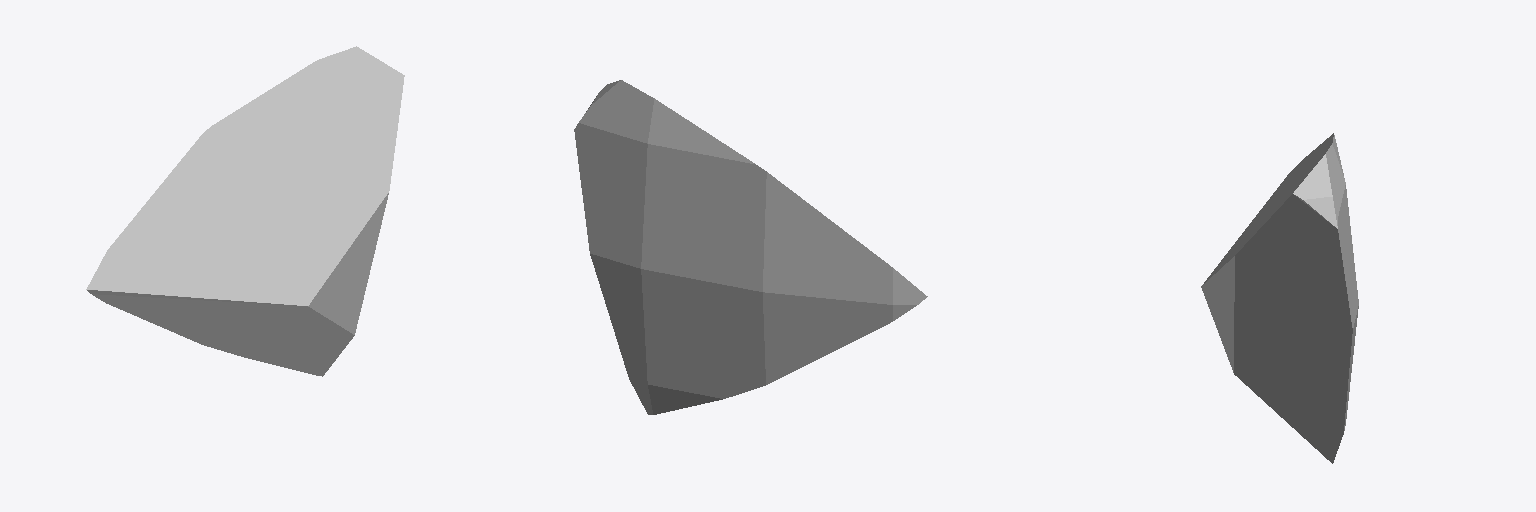
Rendered from Sphere_Cell_Fracture44.obj.
The picture shows the model from 3 angles: view 1: azimuth 30°, elevation 25°; view 2: azimuth 150°, elevation 25°; view 3: azimuth 270°, elevation 25°; orthographic projection.
Size of the model in its own units: 0.5591 by 0.5277 by 0.2321.